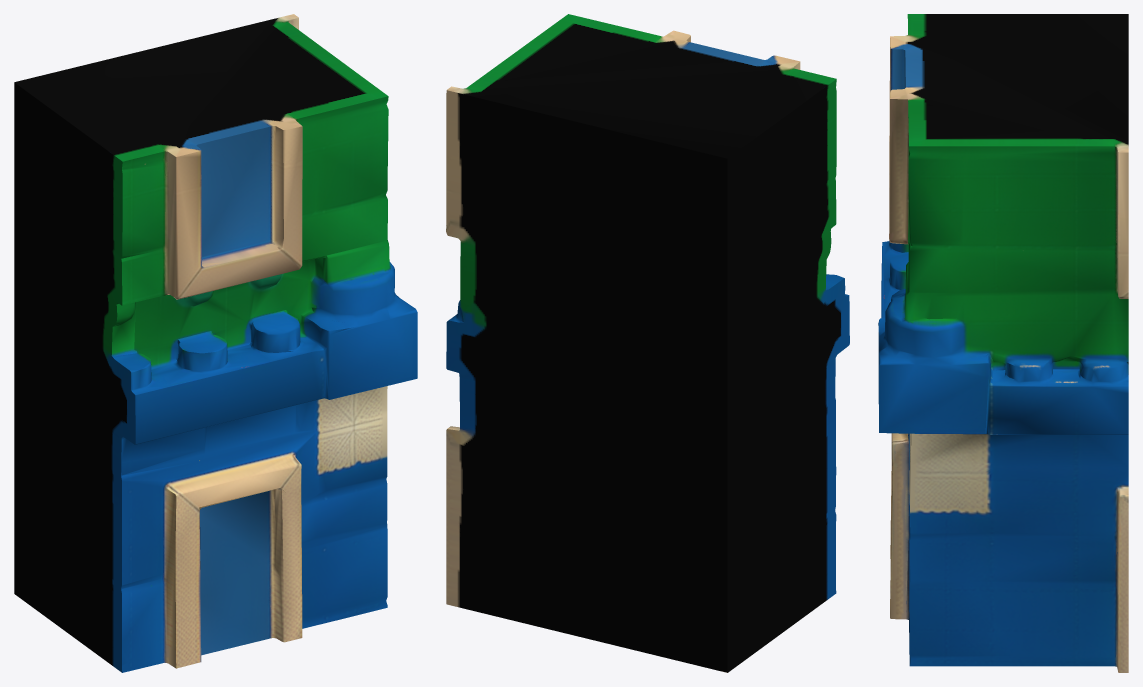
File: 6-upper-walls-front-right.fbx
3 views of the same model, side by side, from view 1: azimuth 30°, elevation 25°; view 2: azimuth 150°, elevation 25°; view 3: azimuth 270°, elevation 25° (orthographic).
Visible parts, largest first — view 1: upper-walls-front-right; view 2: upper-walls-front-right; view 3: upper-walls-front-right.
Part boxes in pixels (bbox=[...]): upper-walls-front-right: bbox=[14, 14, 417, 672]; upper-walls-front-right: bbox=[446, 14, 849, 672]; upper-walls-front-right: bbox=[878, 14, 1128, 672].
Bounding box in the file's own units: 3745 × 6507 × 2835.
1 material, 1 textured.
